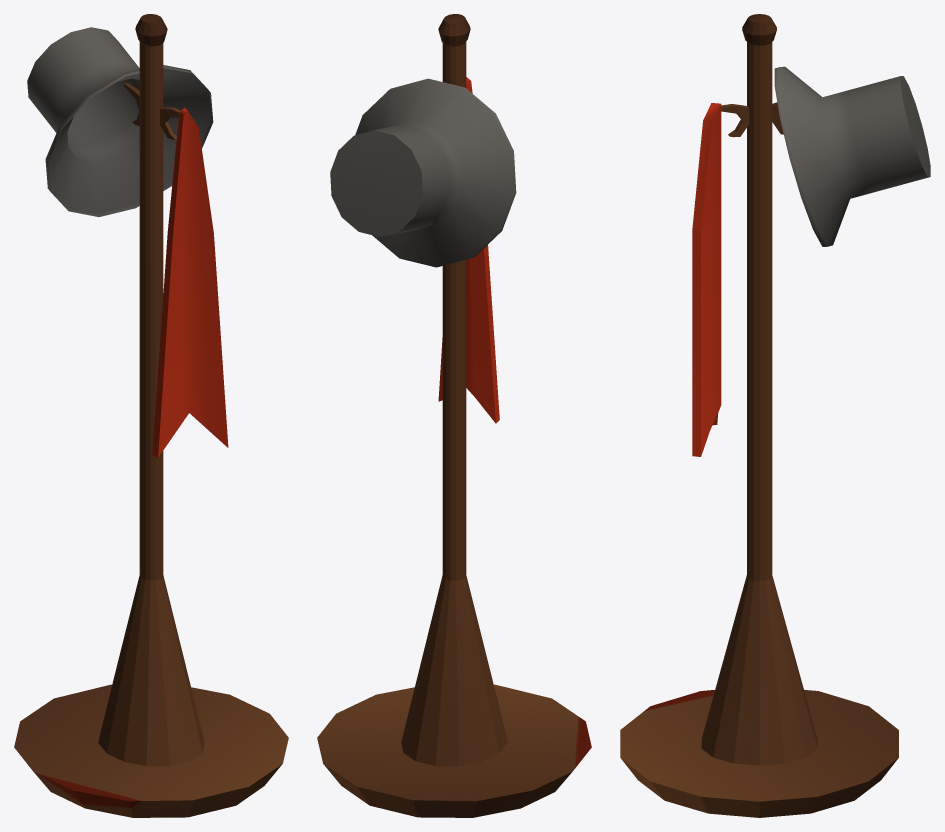
File: naulakko.fbx
3 renders of one model, left to right at view 1: azimuth 30°, elevation 25°; view 2: azimuth 150°, elevation 25°; view 3: azimuth 270°, elevation 25°, orthographic.
Visible parts, largest first — view 1: pCylinder1, pCylinder2, pCube1; view 2: pCylinder1, pCylinder2, pCube1; view 3: pCylinder1, pCylinder2, pCube1.
Boxes of the visible parts, x1,y1,x2,y2 form: pCylinder1: [14, 14, 288, 817]; pCylinder2: [27, 27, 213, 216]; pCube1: [152, 107, 228, 457]; pCylinder1: [317, 14, 591, 817]; pCylinder2: [330, 78, 516, 267]; pCube1: [438, 77, 499, 423]; pCylinder1: [620, 14, 898, 817]; pCylinder2: [774, 66, 930, 246]; pCube1: [692, 103, 721, 456].
Size of the model in its own units: 0.544 by 1.66 by 0.6168.
